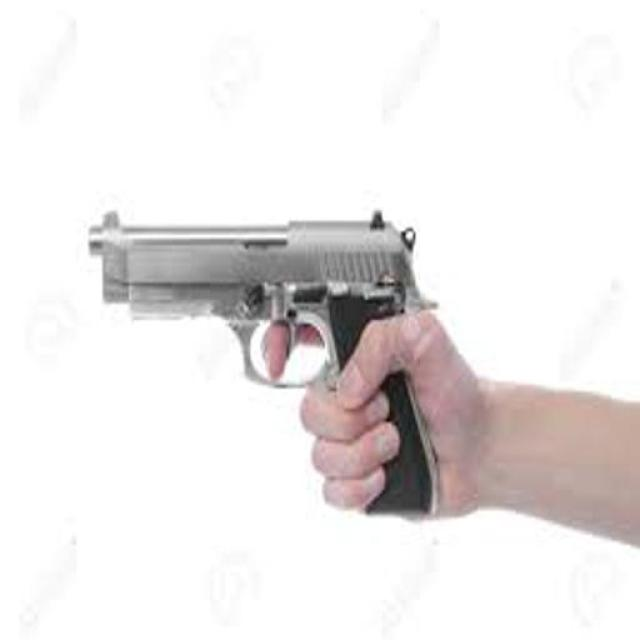pistol: (85, 196, 439, 530)
